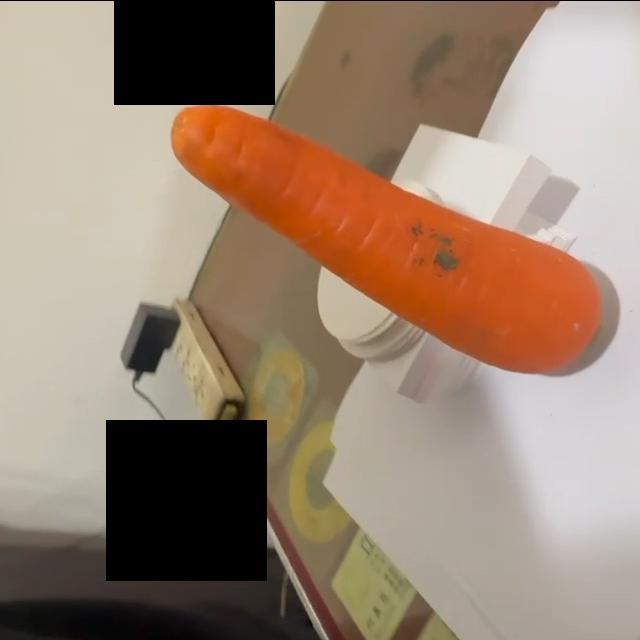carrot: (167, 105, 607, 375)
